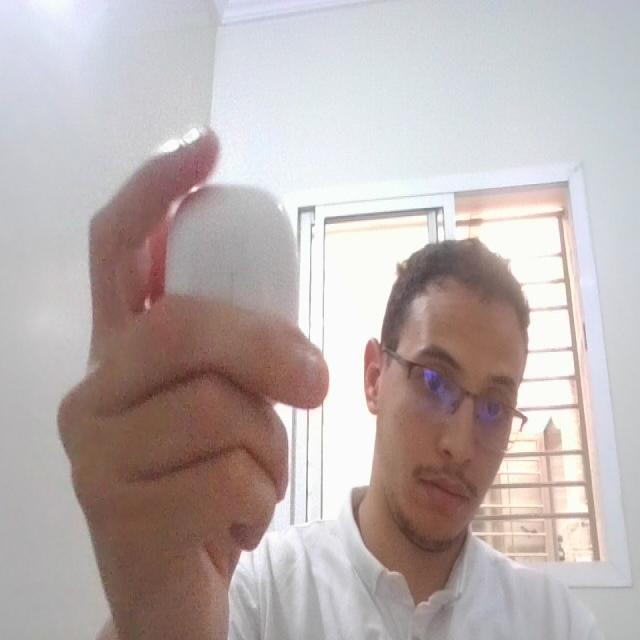airpods: (166, 175, 301, 415)
